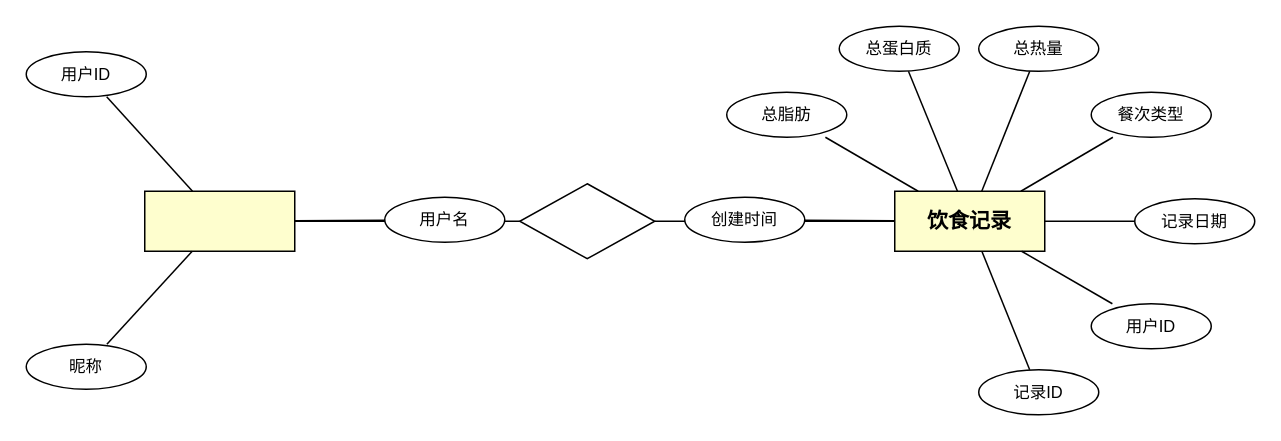
Some shapes in this 1281 by 441 pixel diagram are drawn without their labels. The centre of each missing label's shape, as x and y in pixels:
产生: point (586, 220)
用户: point (219, 220)
